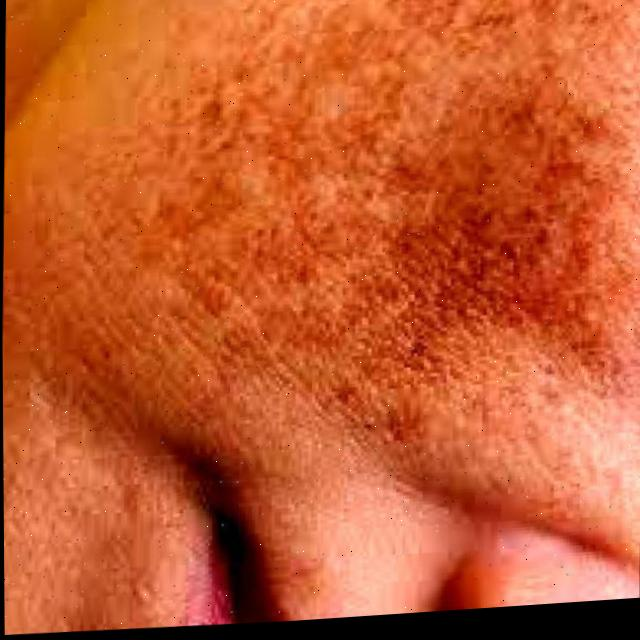Melasma: (23, 0, 640, 487)
